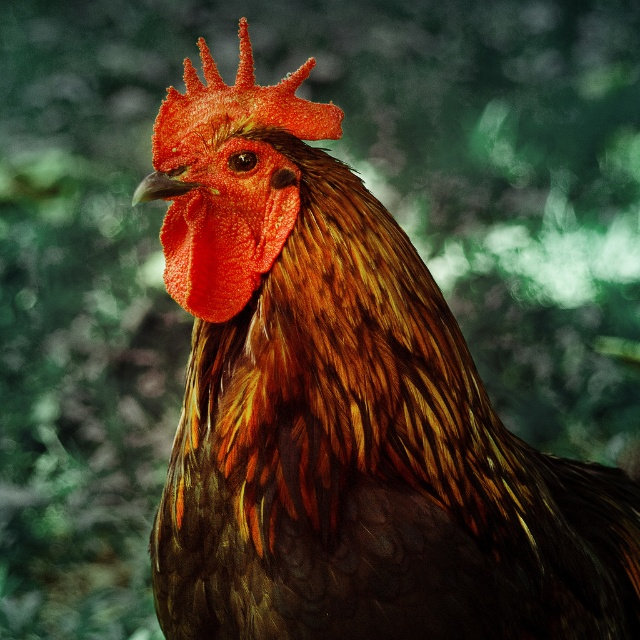Chicken: (131, 17, 640, 640)
